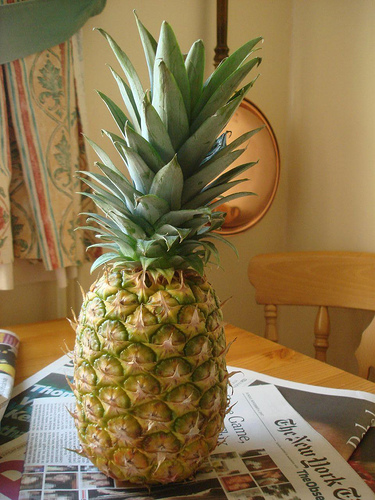pineapple: (67, 8, 268, 486)
